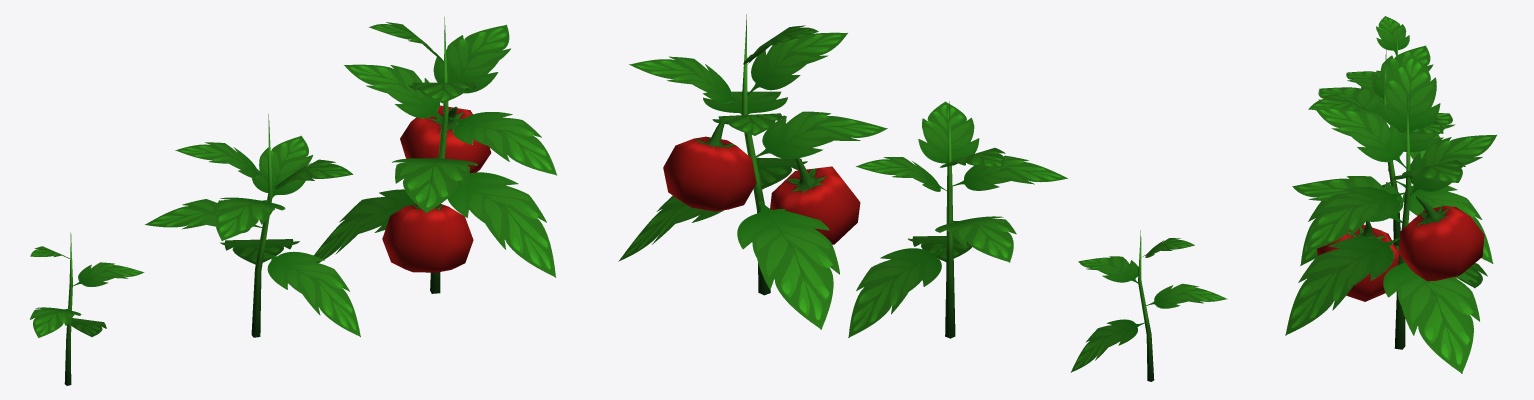
Rendered from Tomato_Lv.FBX.
3 renders of one model, left to right at view 1: azimuth 30°, elevation 25°; view 2: azimuth 150°, elevation 25°; view 3: azimuth 270°, elevation 25°, orthographic. The views are drawn at different scales.
Visible parts, largest first — view 1: Tomato_Lv3, Tomato_Lv2, Tomato_Lv1; view 2: Tomato_Lv3, Tomato_Lv2, Tomato_Lv1; view 3: Tomato_Lv3, Tomato_Lv2, Tomato_Lv1.
Part boxes in pixels (left/top/right/bottom): Tomato_Lv3: left=314, top=17, right=556, bottom=293; Tomato_Lv2: left=145, top=114, right=360, bottom=337; Tomato_Lv1: left=30, top=232, right=144, bottom=385; Tomato_Lv3: left=618, top=14, right=887, bottom=329; Tomato_Lv2: left=848, top=101, right=1067, bottom=338; Tomato_Lv1: left=1070, top=230, right=1227, bottom=381; Tomato_Lv3: left=1285, top=54, right=1496, bottom=373; Tomato_Lv2: left=1300, top=45, right=1493, bottom=265; Tomato_Lv1: left=1346, top=16, right=1439, bottom=171.
Bounding box in the file's own units: 241 × 111 × 97.93.
